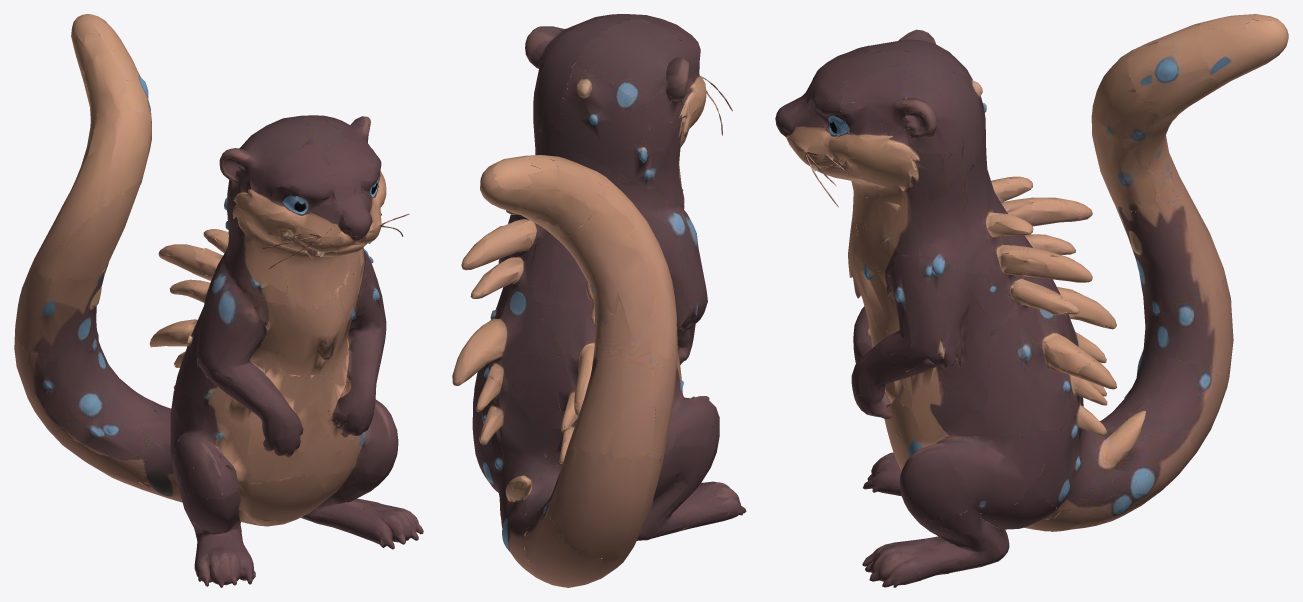
3 renders of one model, left to right at view 1: azimuth 30°, elevation 25°; view 2: azimuth 150°, elevation 25°; view 3: azimuth 270°, elevation 25°, orthographic. The views are drawn at different scales.
Parts seen in each view (by area): view 1: Mesh_0; view 2: Mesh_0; view 3: Mesh_0.
Boxes of the visible parts, x1,y1,x2,y2 form: Mesh_0: (14,14,423,587); Mesh_0: (452,14,746,587); Mesh_0: (775,14,1288,587).
Size of the model in its own units: 1.26 by 1.9 by 1.83.
Materials: 1 (1 with a texture image).
